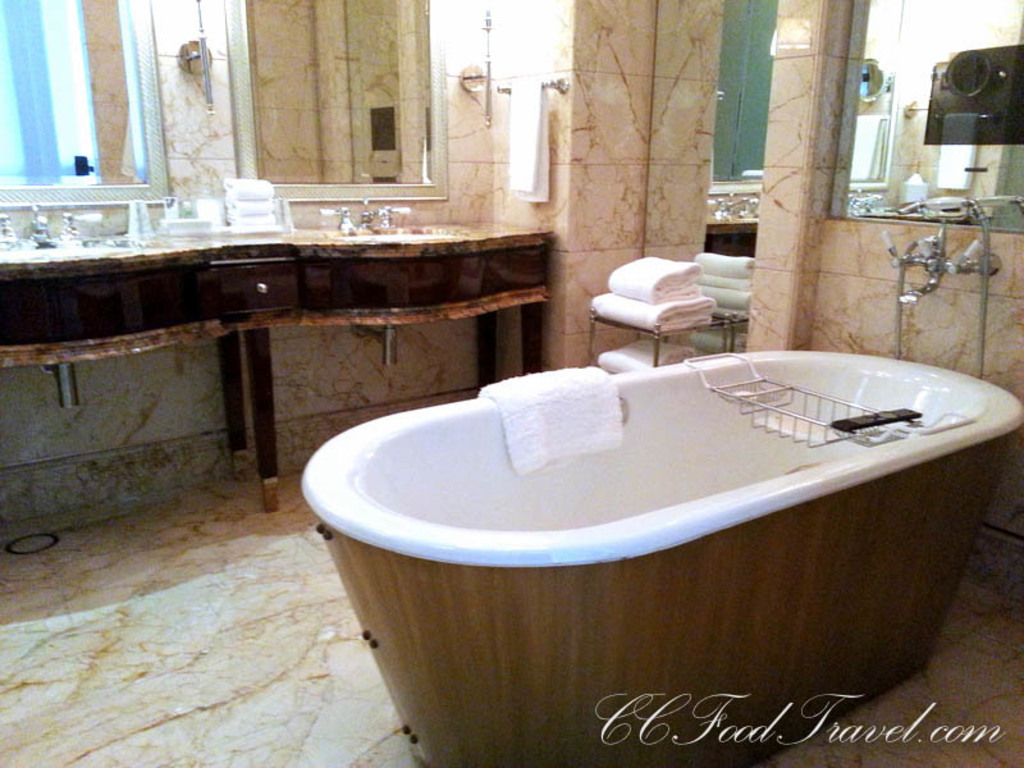tap: (894, 263, 944, 312), (354, 194, 385, 235), (23, 200, 51, 244)
